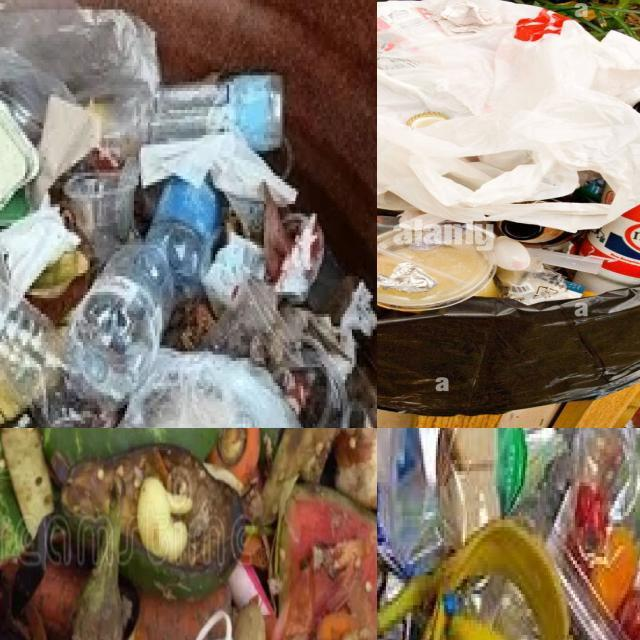Disposable: (377, 222, 496, 312), (204, 280, 297, 370), (64, 158, 140, 265), (577, 203, 640, 294), (0, 99, 39, 209)
Garbage: (377, 0, 640, 312), (0, 428, 377, 640), (377, 428, 640, 640)
Plastic: (229, 563, 273, 616), (529, 248, 603, 275), (493, 236, 531, 271)
Plastic_Bag: (377, 0, 640, 231), (549, 428, 640, 640), (117, 350, 298, 428), (380, 428, 448, 564), (496, 259, 584, 304)
Plastic_bottle: (66, 243, 174, 408), (149, 73, 283, 152), (146, 177, 223, 300), (0, 282, 63, 407), (549, 176, 609, 204), (498, 220, 569, 243)
Plastic_wraper: (377, 484, 412, 579)
